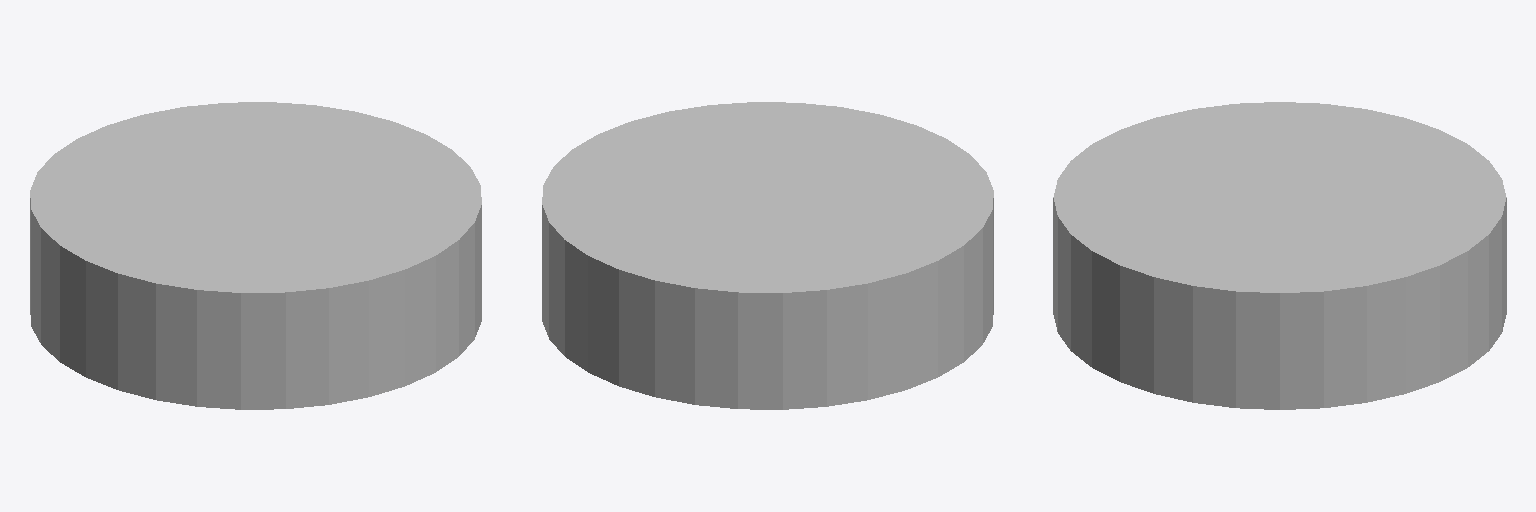
The model's file is testCylinder.obj.
The picture shows the model from 3 angles: view 1: azimuth 30°, elevation 25°; view 2: azimuth 150°, elevation 25°; view 3: azimuth 270°, elevation 25°; orthographic projection.
Parts seen in each view (by area): view 1: Cylinder; view 2: Cylinder; view 3: Cylinder.
Boxes of the visible parts, x1,y1,x2,y2 form: Cylinder: [30, 102, 481, 409]; Cylinder: [542, 102, 993, 409]; Cylinder: [1053, 102, 1506, 409].
Bounding box in the file's own units: 200 × 56.91 × 200.